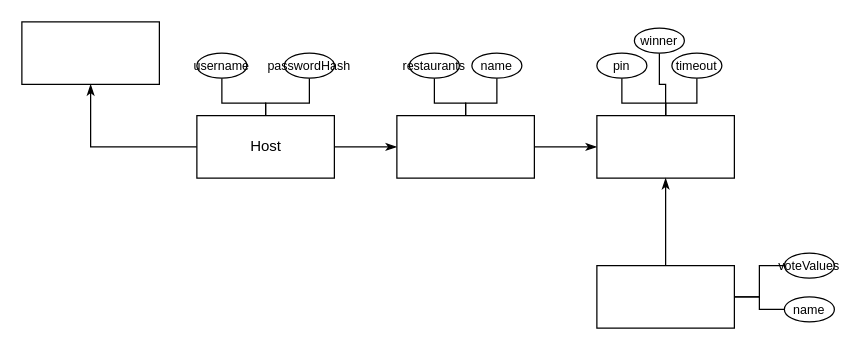
Image size: 861x350. Some labels were removed from this diagram. The shapes that lost their labels are listed below. From the top down, each one's box as (x1, y1, x2, y2) in pixels, then its label:
(21, 21, 159, 84): Session
(396, 114, 534, 178): Ballot
(596, 114, 734, 178): Room
(596, 264, 734, 328): Vote
